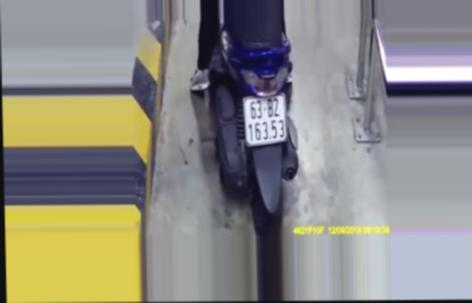License_Plate: (237, 91, 292, 144)
